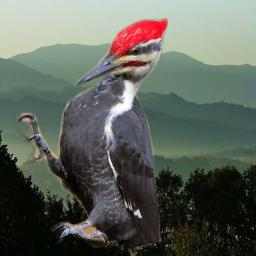Woodpecker: (16, 18, 168, 251)
